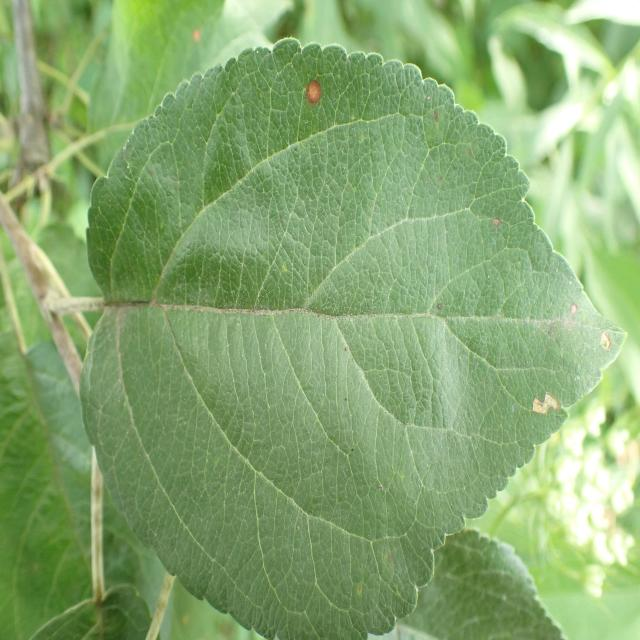Black Rot: (298, 54, 340, 140), (523, 385, 578, 437), (590, 326, 620, 372), (562, 295, 583, 334)
scab: (85, 252, 494, 397)
